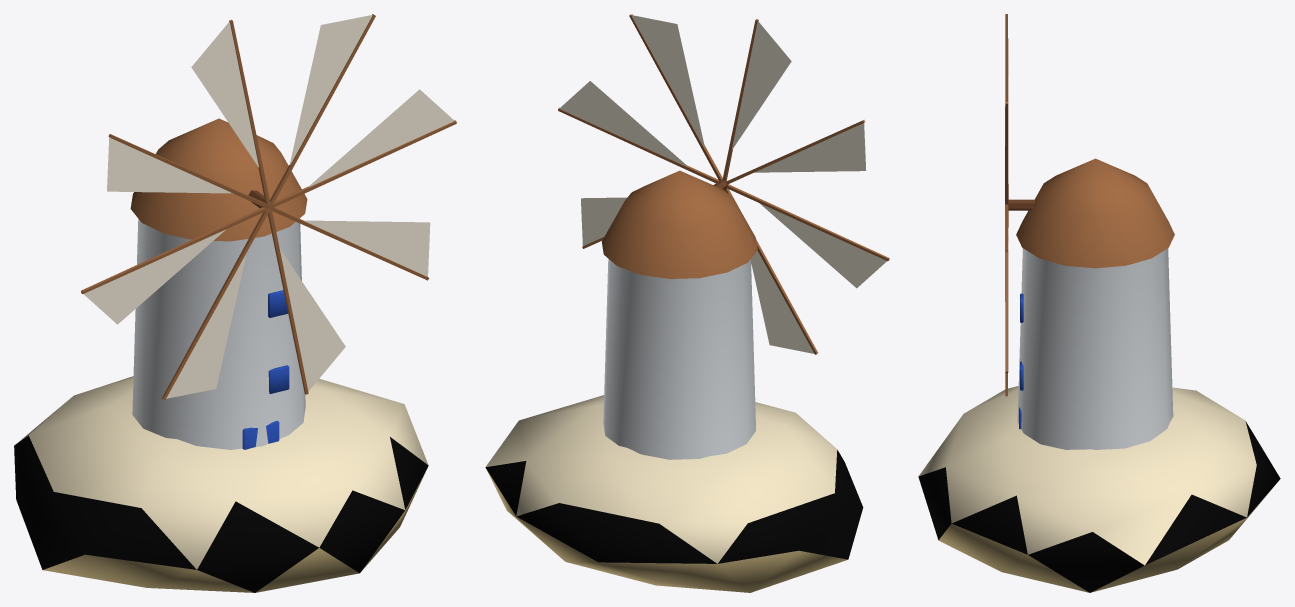
The model's file is Windmill.fbx.
3 views of the same model, side by side, from view 1: azimuth 30°, elevation 25°; view 2: azimuth 150°, elevation 25°; view 3: azimuth 270°, elevation 25° (orthographic). The views are drawn at different scales.
Parts seen in each view (by area): view 1: Windmill; view 2: Windmill; view 3: Windmill.
Boxes of the visible parts, <box> form: Windmill: <box>14,14,456,592</box>; Windmill: <box>485,14,889,592</box>; Windmill: <box>918,14,1280,592</box>.
Bounding box in the file's own units: 8.36 × 12.09 × 7.75.
Materials: 1 (1 with a texture image).
